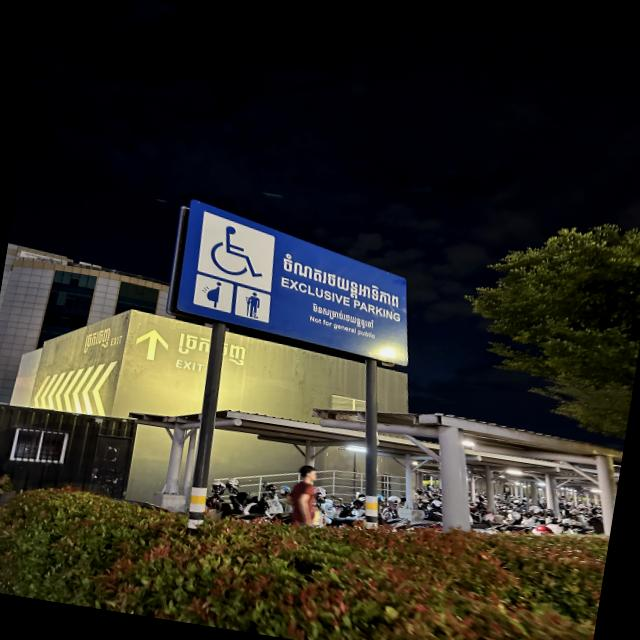Yolov11kh: (275, 248, 403, 315), (307, 299, 375, 335)
